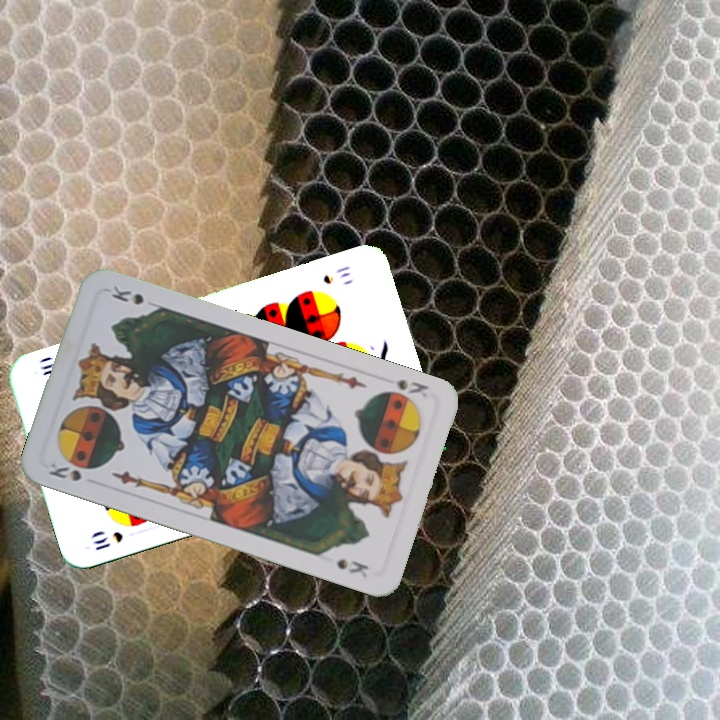S10: (89, 527, 126, 553), (319, 261, 353, 287)
SK: (378, 373, 431, 400), (44, 458, 84, 484)
